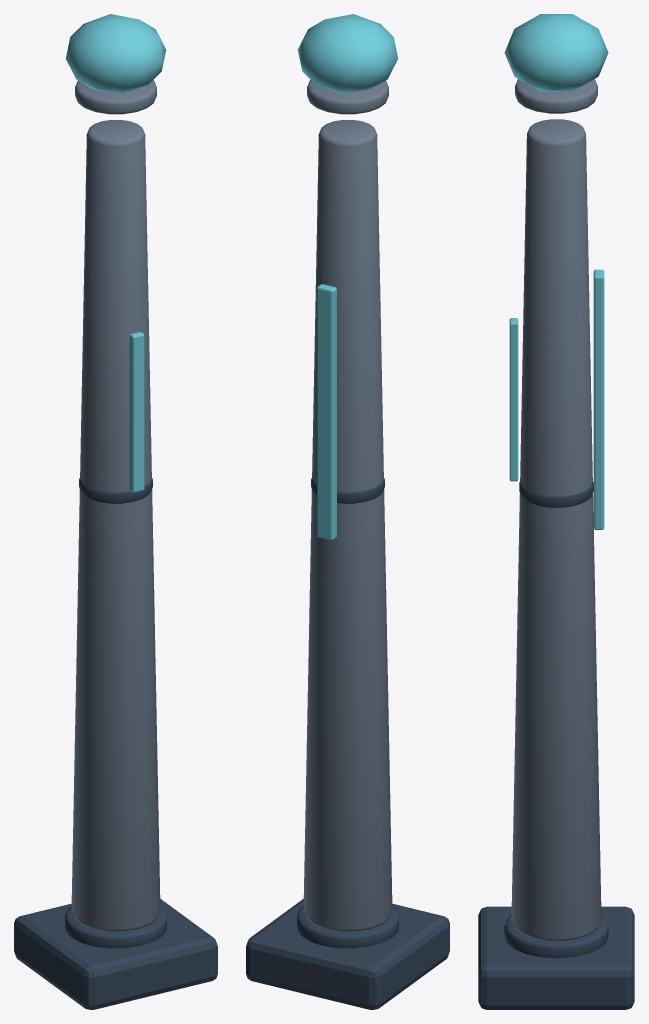
Rendered from Pylon_M.fbx.
The picture shows the model from 3 angles, left to right: view 1: azimuth 30°, elevation 25°; view 2: azimuth 150°, elevation 25°; view 3: azimuth 270°, elevation 25°; orthographic projection.
Visible parts, largest first — view 1: Pylon_M; view 2: Pylon_M; view 3: Pylon_M.
Boxes of the visible parts, x1,y1,x2,y2 form: Pylon_M: (14, 14, 217, 1009); Pylon_M: (246, 14, 449, 1009); Pylon_M: (478, 14, 634, 1009).
Size of the model in its own units: 0.9 by 6.12 by 0.9.
